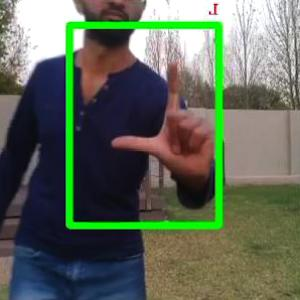land_hand: (111, 59, 218, 184)
